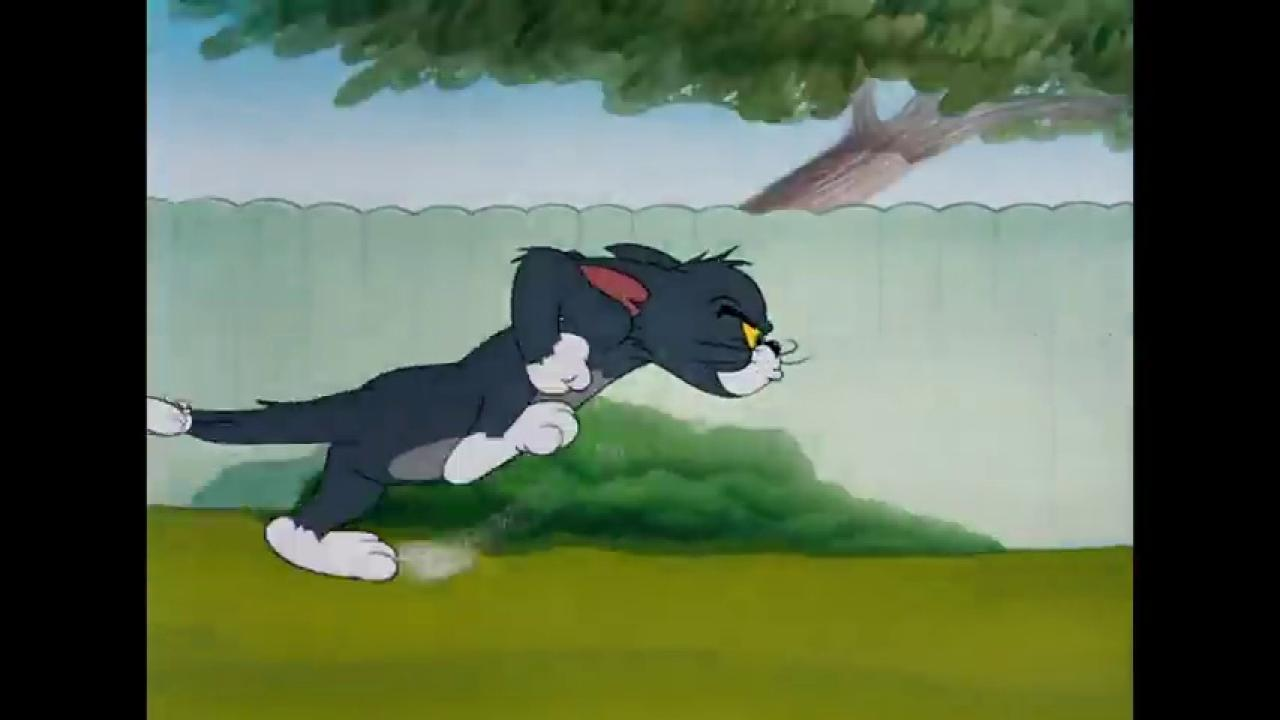Tom: (148, 235, 790, 585)
